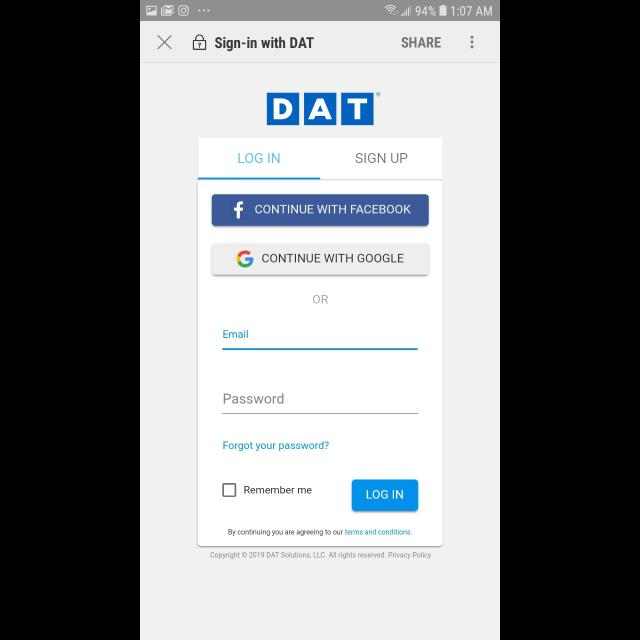checkbox: (222, 483, 236, 497)
icon: (193, 35, 207, 51), (158, 34, 172, 50), (470, 34, 474, 50)
image: (267, 92, 381, 126)
input: (222, 330, 418, 350), (222, 394, 418, 414)
text: (210, 552, 432, 560), (216, 36, 314, 52), (228, 528, 412, 536), (223, 441, 329, 451), (356, 152, 408, 164), (223, 394, 284, 404), (244, 486, 312, 494), (239, 152, 281, 164), (401, 38, 441, 48), (224, 329, 248, 338), (314, 296, 328, 304)
textbutton: (212, 194, 428, 226), (212, 243, 428, 275), (352, 480, 418, 512)
uppertaskbar: (140, 1, 500, 22)
